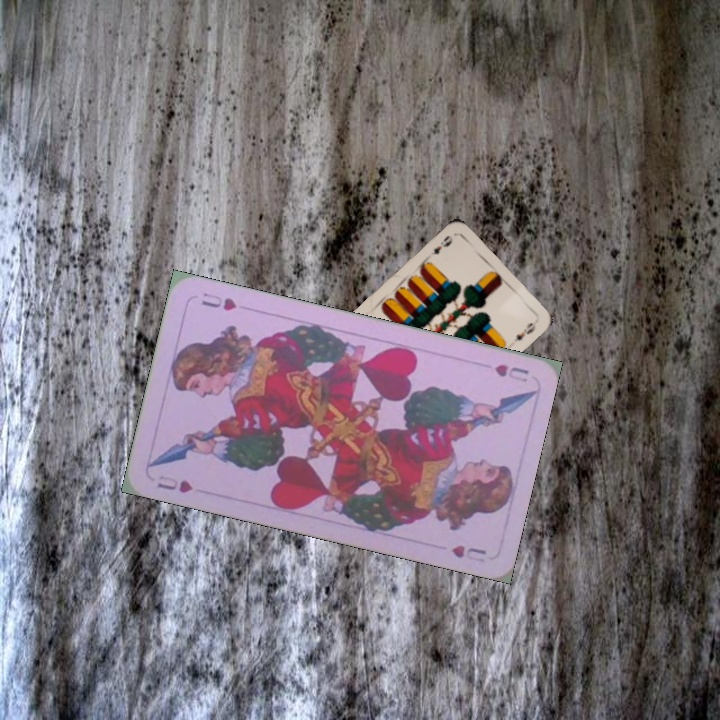E9: (427, 231, 455, 258)
HU: (153, 471, 196, 496), (490, 360, 532, 385)
